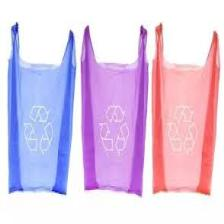plastic: (79, 25, 149, 200), (7, 26, 77, 198), (154, 25, 220, 198)
